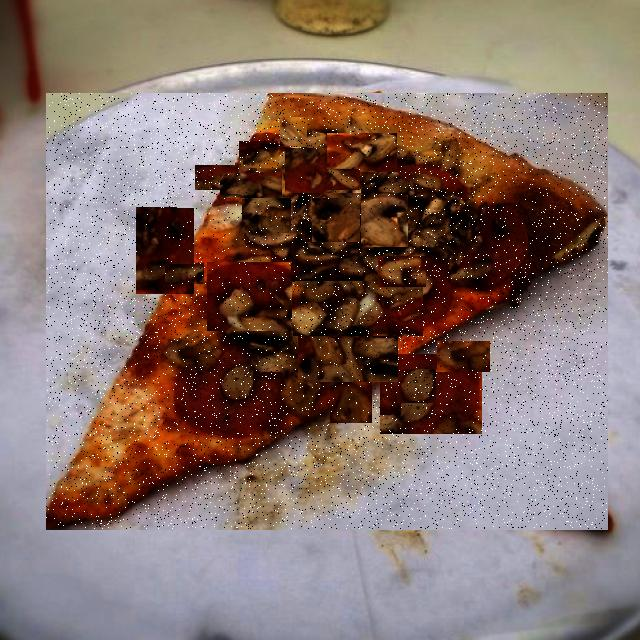Mushrooms: (293, 282, 423, 336), (298, 330, 398, 382), (177, 198, 248, 262), (327, 134, 397, 172), (292, 244, 363, 281), (361, 196, 408, 247), (312, 199, 360, 242), (330, 381, 372, 423), (242, 199, 291, 233), (437, 342, 490, 372), (220, 173, 282, 198), (378, 257, 426, 287), (398, 369, 438, 403), (222, 276, 258, 306), (239, 142, 278, 168), (280, 118, 307, 147), (165, 264, 204, 284), (327, 169, 360, 190)
Pepperoni: (380, 355, 482, 434), (208, 263, 296, 331), (136, 208, 194, 294), (285, 149, 361, 193), (195, 166, 257, 190)
Pizza: (46, 93, 608, 529)
